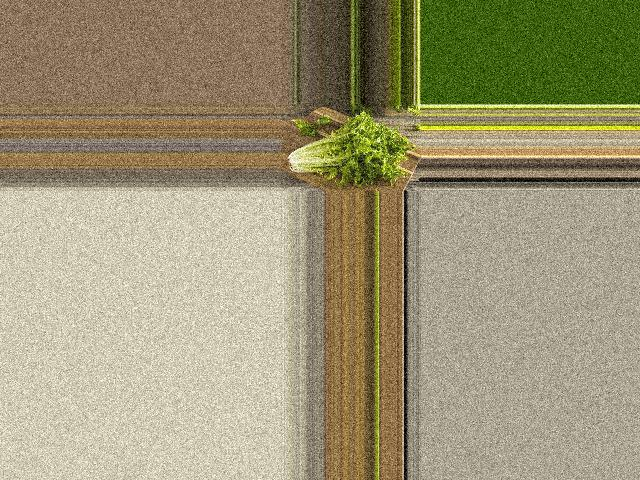lettuce: (281, 113, 408, 187)
